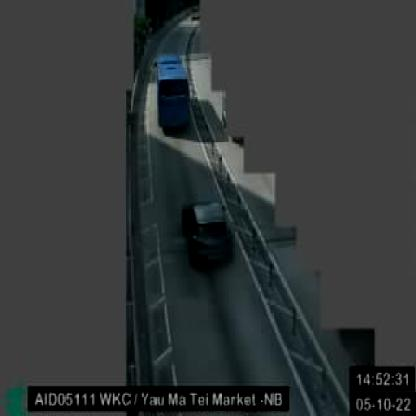Bus: (155, 54, 191, 133)
Car: (182, 199, 234, 265)
